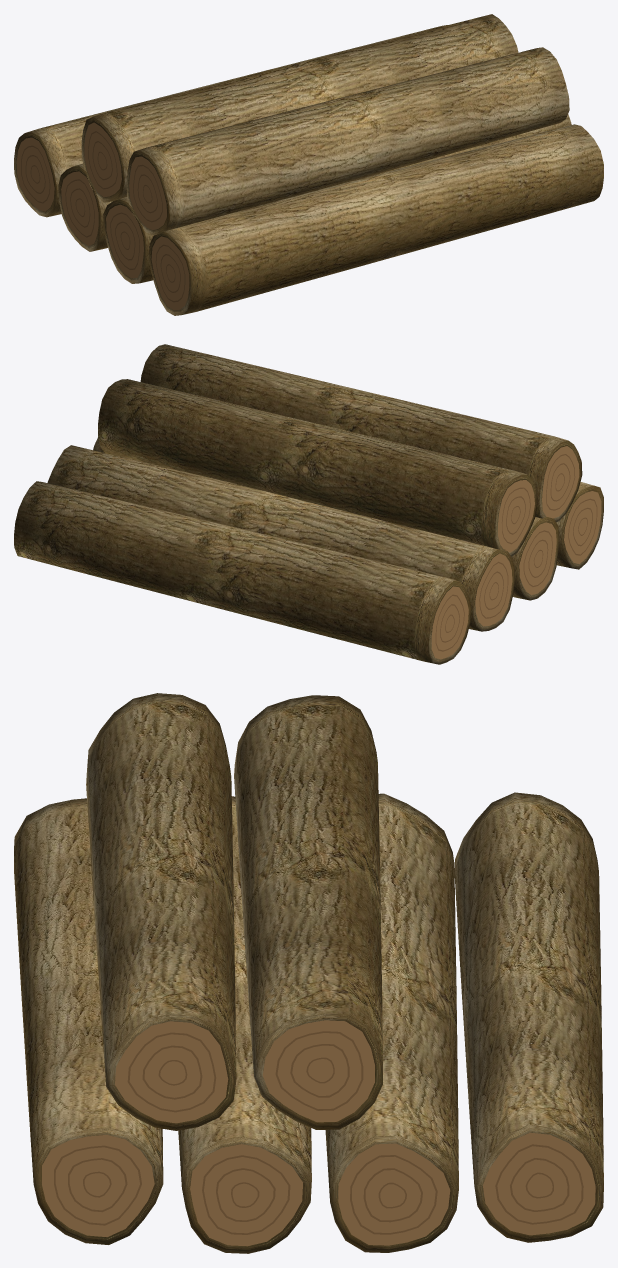
File: material_wood.glb
3 views of the same model, one above another, from view 1: azimuth 30°, elevation 25°; view 2: azimuth 150°, elevation 25°; view 3: azimuth 270°, elevation 25° (orthographic). The views are drawn at different scales.
Visible parts, largest first — view 1: Creek wood bundle; view 2: Creek wood bundle; view 3: Creek wood bundle.
Part boxes in pixels (bbox=[...]): Creek wood bundle: bbox=[14, 14, 603, 315]; Creek wood bundle: bbox=[14, 344, 603, 664]; Creek wood bundle: bbox=[14, 693, 603, 1253].
Bounding box in the file's own units: 0.4011 × 0.1288 × 0.2896.
3 materials, 1 textured.
